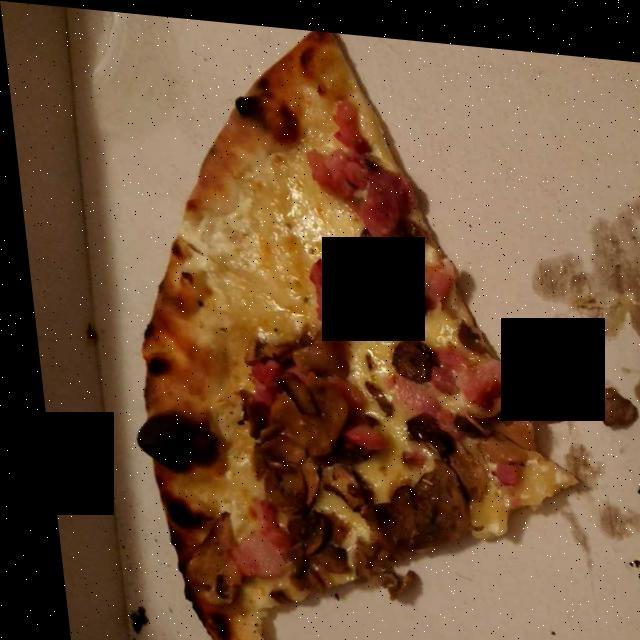pizza: (133, 43, 548, 637)
